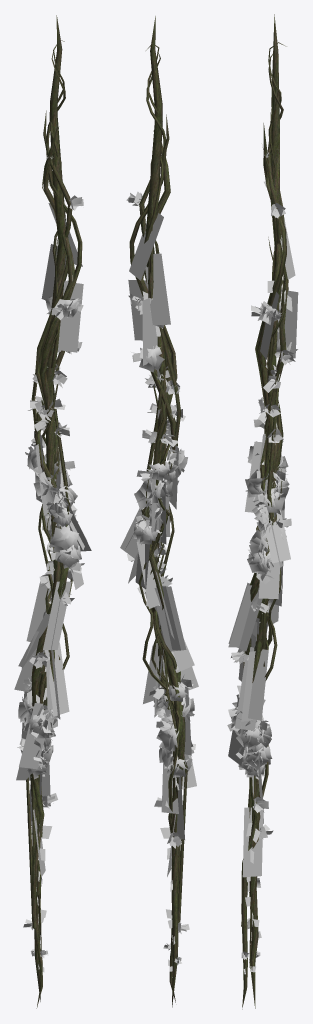
File: Liana1_L2.fbx
3 renders of one model, left to right at view 1: azimuth 30°, elevation 25°; view 2: azimuth 210°, elevation 25°; view 3: azimuth 330°, elevation 25°, orthographic.
Parts seen in each view (by area): view 1: polySurface31; view 2: polySurface31; view 3: polySurface31.
Part boxes in pixels (x1,y1,x2,y2): polySurface31: (14, 15, 91, 1008); polySurface31: (120, 16, 198, 1007); polySurface31: (227, 14, 298, 1009).
Bounding box in the file's own units: 99.7 × 1433 × 89.77.
